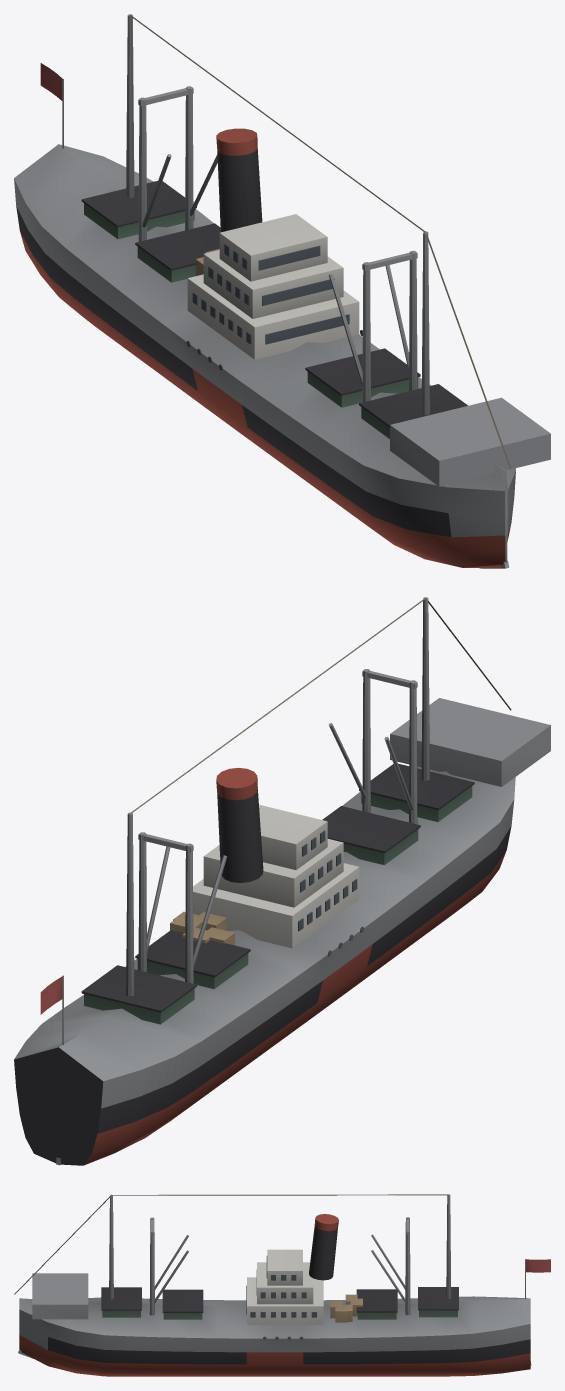
The model's file is cargo.glb.
3 renders of one model, top to bottom at view 1: azimuth 30°, elevation 25°; view 2: azimuth 150°, elevation 25°; view 3: azimuth 270°, elevation 25°, orthographic. The views are drawn at different scales.
Parts seen in each view (by area): view 1: Body; view 2: Body; view 3: Body.
Boxes of the visible parts, x1,y1,x2,y2 form: Body: [14, 14, 550, 568]; Body: [14, 597, 550, 1165]; Body: [14, 1194, 550, 1376].
Size of the model in its own units: 0.916 by 1.88 by 5.25.
